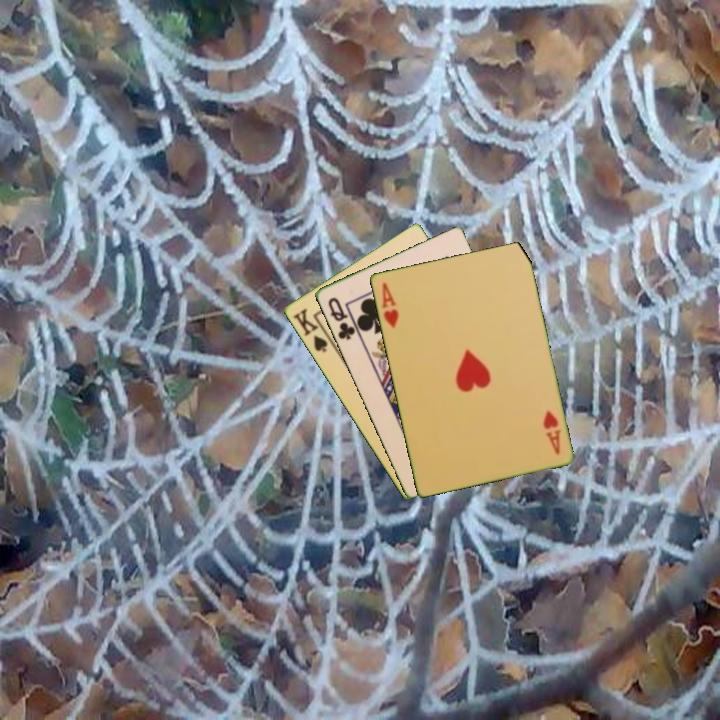Ah: (539, 407, 563, 457), (378, 279, 401, 331)
Ks: (289, 304, 336, 355)
Qc: (324, 293, 358, 343)
